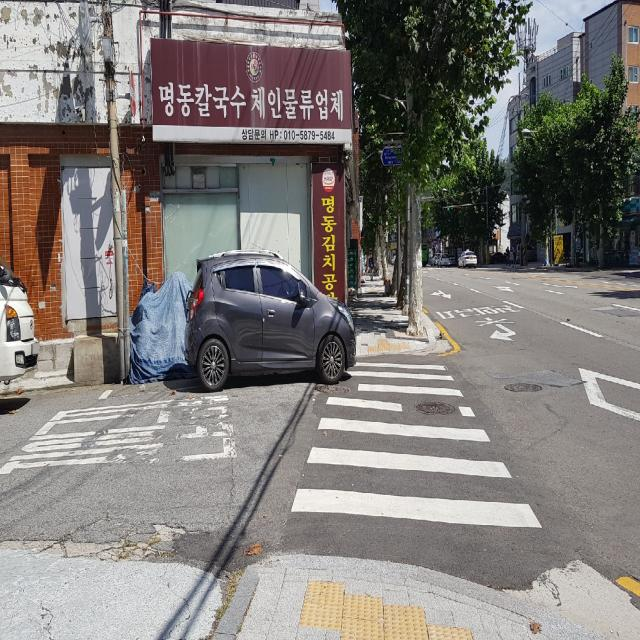횡단보도: (290, 361, 544, 530)
